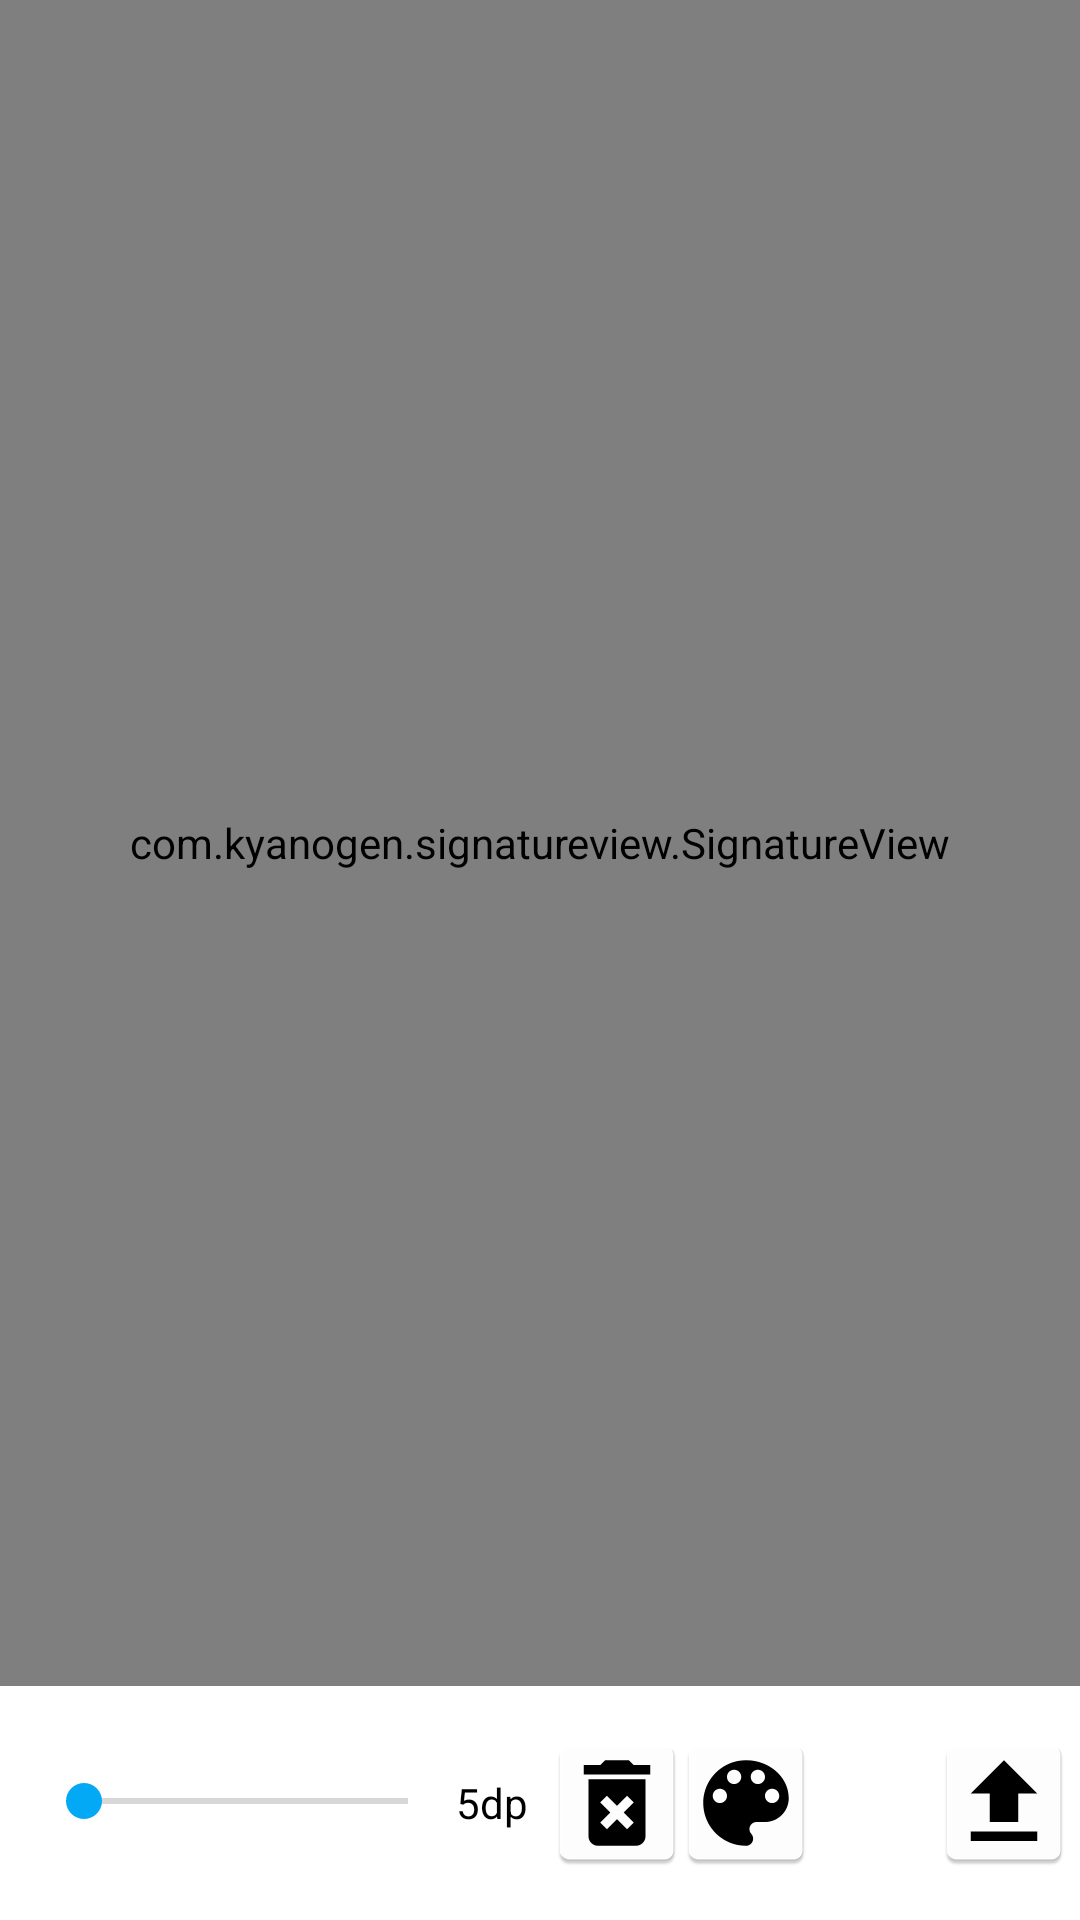

Icons on this 1080x1920 Android screen, each with the point to tap as (x,y):
upload: (1004,1808)
